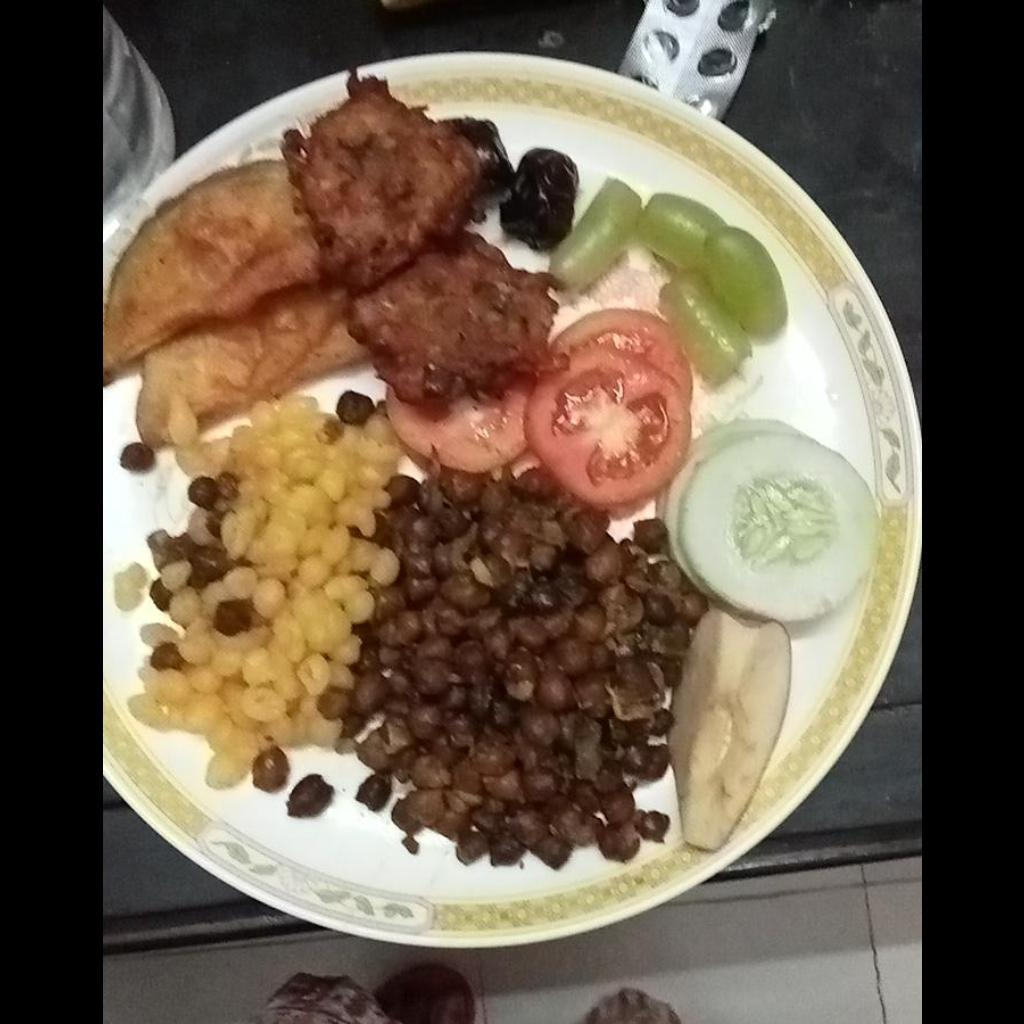apple: (672, 621, 792, 847)
beguni: (103, 162, 365, 439)
burinda: (139, 403, 388, 751)
chola: (363, 476, 672, 865)
cucumber: (676, 427, 872, 623)
grapes: (560, 177, 784, 380)
peyaju: (292, 82, 557, 395)
tomato: (530, 312, 688, 504)
